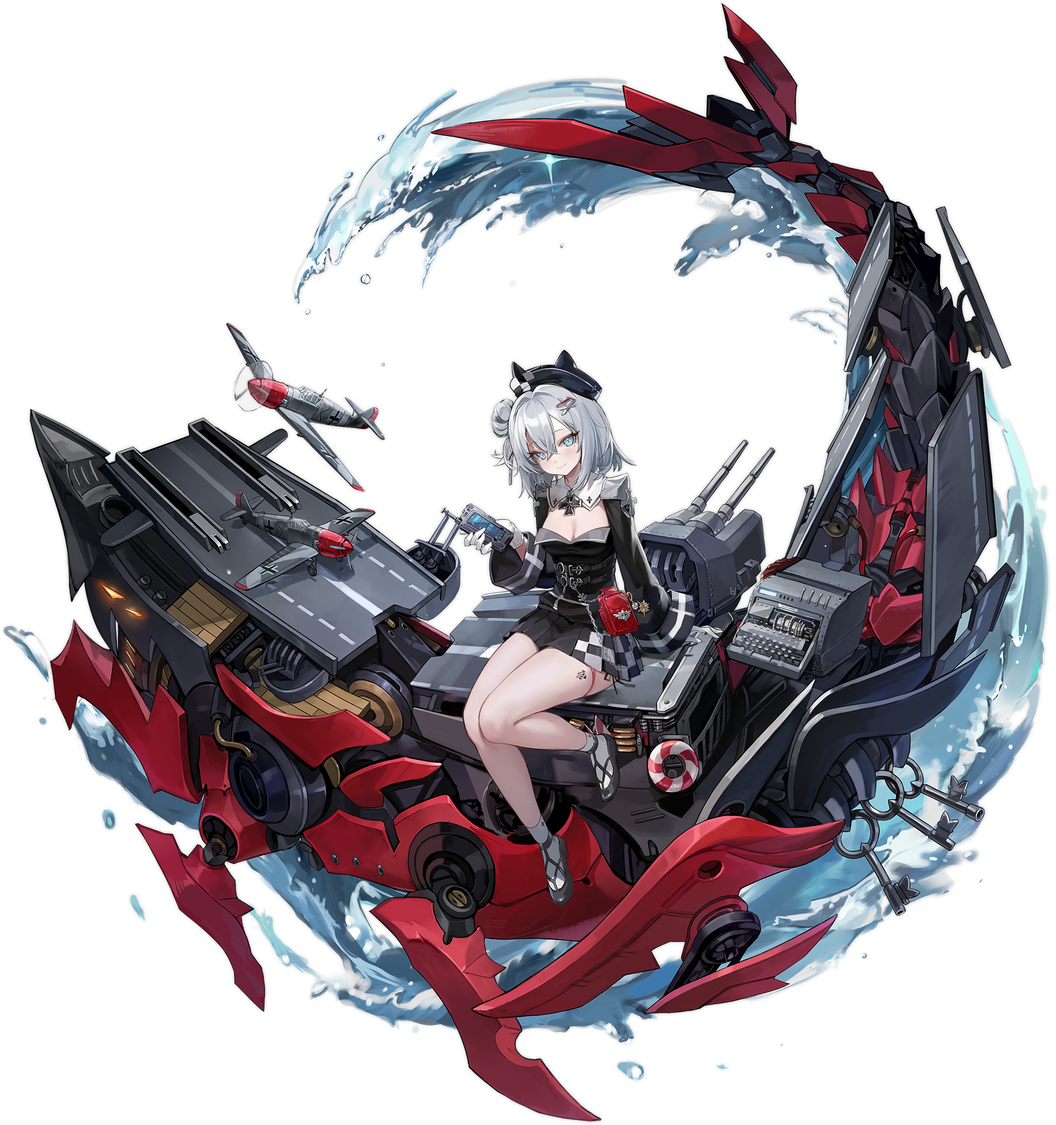person: (248, 329, 762, 948)
